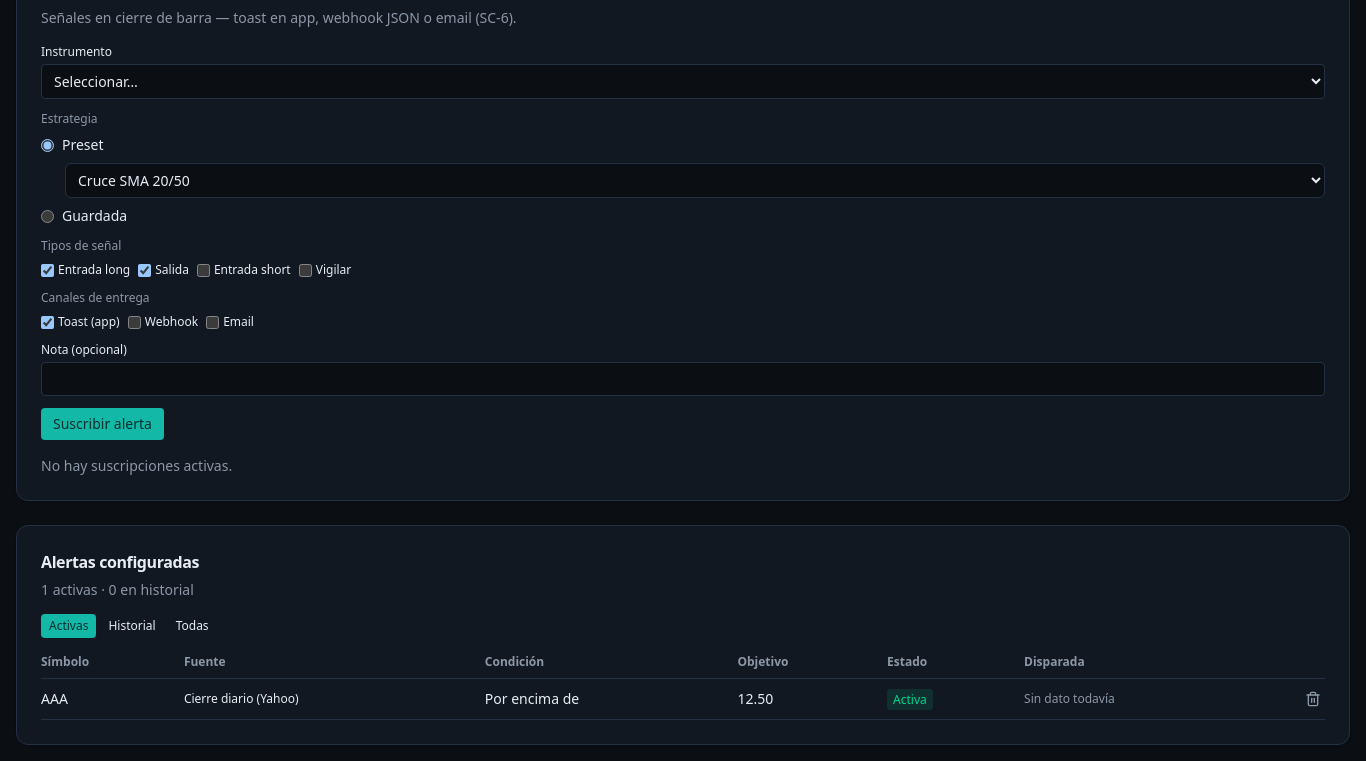
Test case: AlertsPage · alcance de cuenta y errores › muestra el fallo de una acción destructiva en lugar de silenciarlo
(page scrolled)
Step 1. Click the button titled "Eliminar" → coordinates (1313, 699), box [1301,687,1325,711]
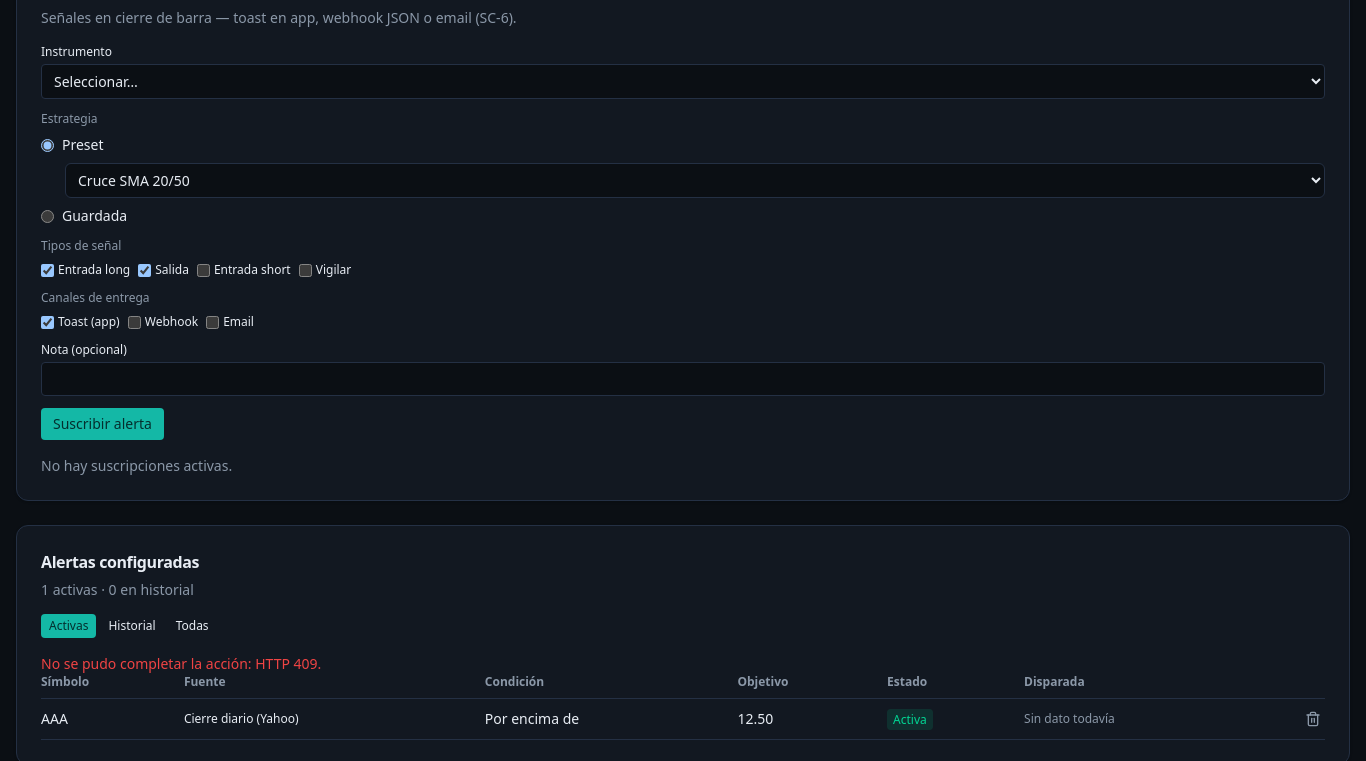
Expected: the message shows "No se pudo completar la acción", [41,654,252,673]
Expected: the message shows "HTTP 409", [255,654,318,673]
